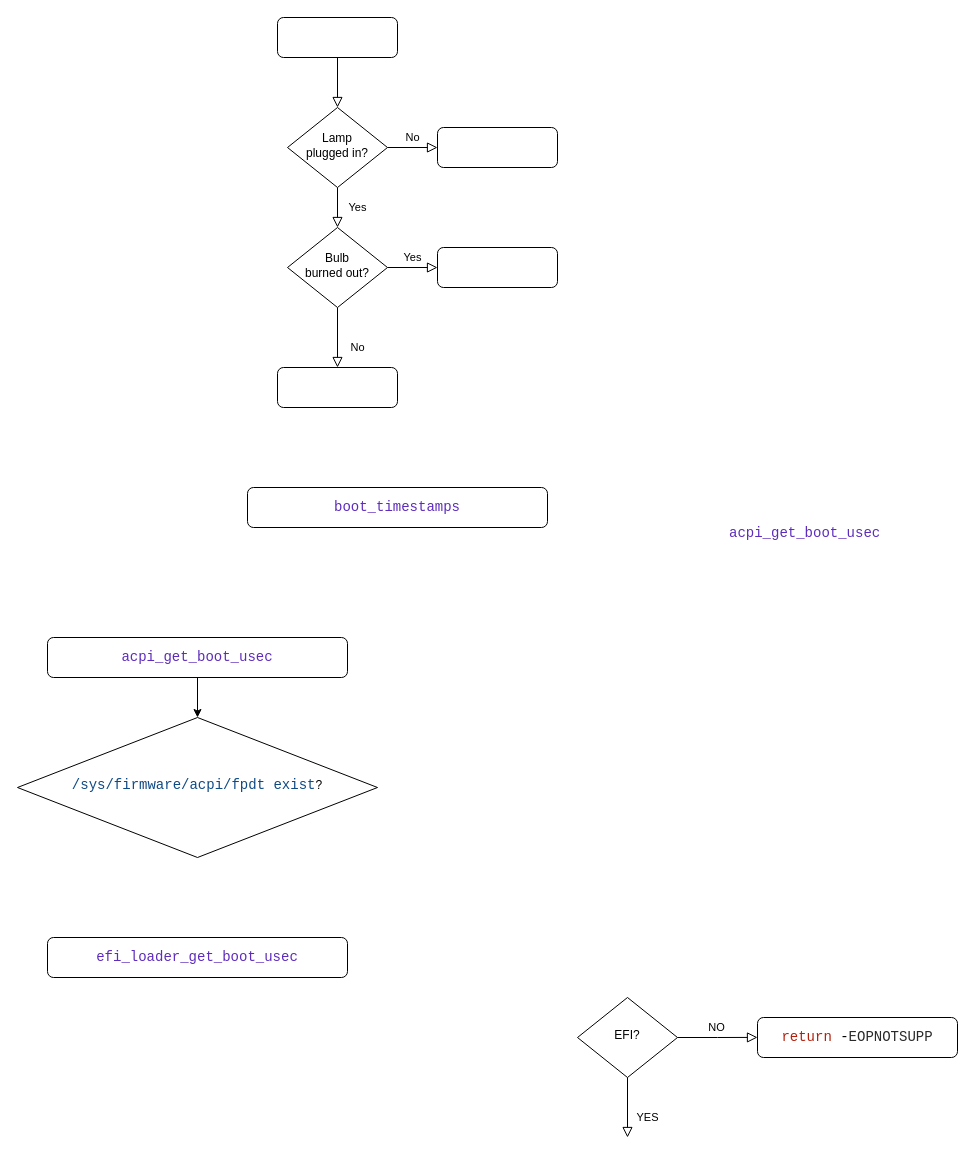
Some shapes in this 975 by 1165 pixel diagram are drawn without their labels. Each missing label, with the centre of its shape:
Lamp doesn't work: (x=337, y=37)
Plug in lamp: (x=497, y=147)
Repair Lamp: (x=337, y=387)
Replace Bulb: (x=497, y=267)
